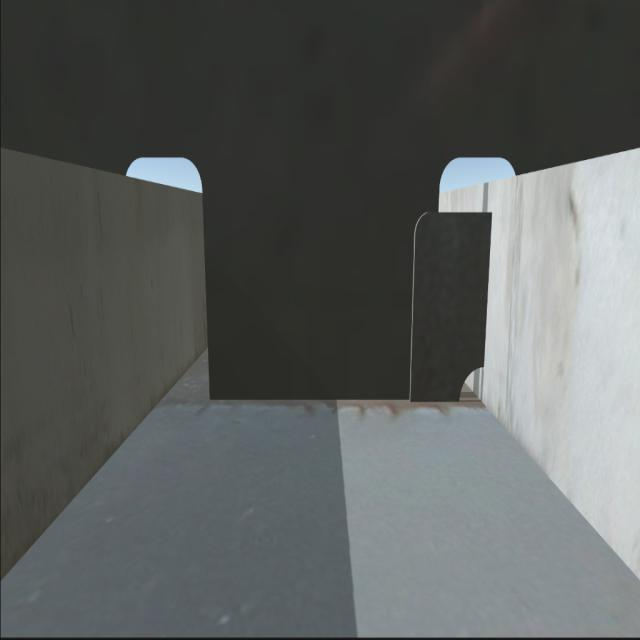fillet_hole: (456, 372, 486, 408)
fillet_yong_jeop_jang: (208, 397, 460, 409)
longi_yong_jeop_jang: (484, 219, 496, 366)
plate_CP05: (411, 208, 493, 402)
